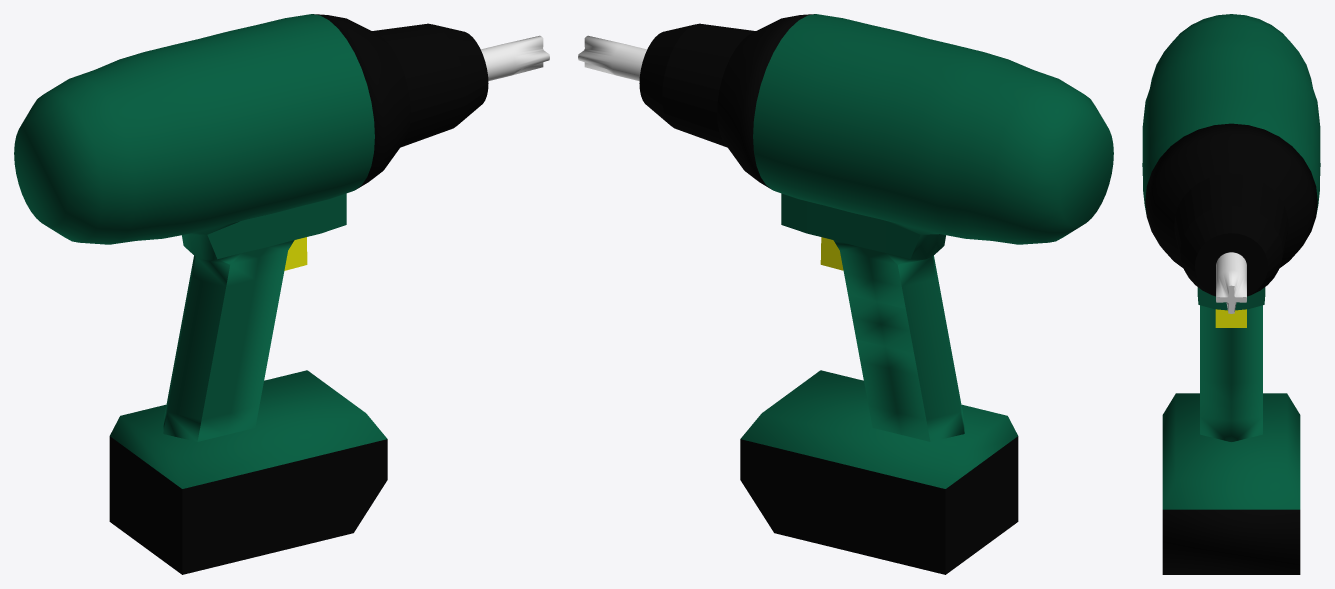
Rendered from drill.dae.
3 renders of one model, left to right at view 1: azimuth 30°, elevation 25°; view 2: azimuth 150°, elevation 25°; view 3: azimuth 270°, elevation 25°, orthographic. The views are drawn at different scales.
Parts seen in each view (by area): view 1: drill_body, drill_battery, drill_fodder, drill_gear_shift, drill_bit; view 2: drill_body, drill_battery, drill_fodder, drill_gear_shift, drill_bit; view 3: drill_body, drill_gear_shift, drill_fodder, drill_battery, drill_bit, drill_trigger.
Part boxes in pixels (x1,y1,x2,y2): drill_body: [14, 14, 387, 488]; drill_battery: [109, 436, 387, 574]; drill_fodder: [372, 23, 488, 147]; drill_gear_shift: [313, 14, 410, 189]; drill_bit: [480, 35, 549, 81]; drill_body: [740, 14, 1113, 488]; drill_battery: [740, 436, 1018, 574]; drill_fodder: [639, 23, 755, 147]; drill_gear_shift: [717, 14, 814, 189]; drill_bit: [578, 35, 647, 81]; drill_body: [1142, 14, 1320, 509]; drill_gear_shift: [1145, 123, 1317, 268]; drill_fodder: [1174, 173, 1288, 296]; drill_battery: [1162, 509, 1300, 574]; drill_bit: [1216, 252, 1246, 313]; drill_trigger: [1215, 309, 1246, 327].
Bounding box in the file's own units: 0.1729 × 0.0564 × 0.1604.
